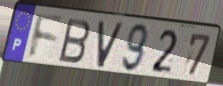2: (150, 28, 179, 76)
7: (187, 32, 212, 78)
9: (121, 22, 152, 74)
B: (57, 17, 92, 66)
F: (27, 12, 66, 61)
V: (95, 20, 126, 70)
